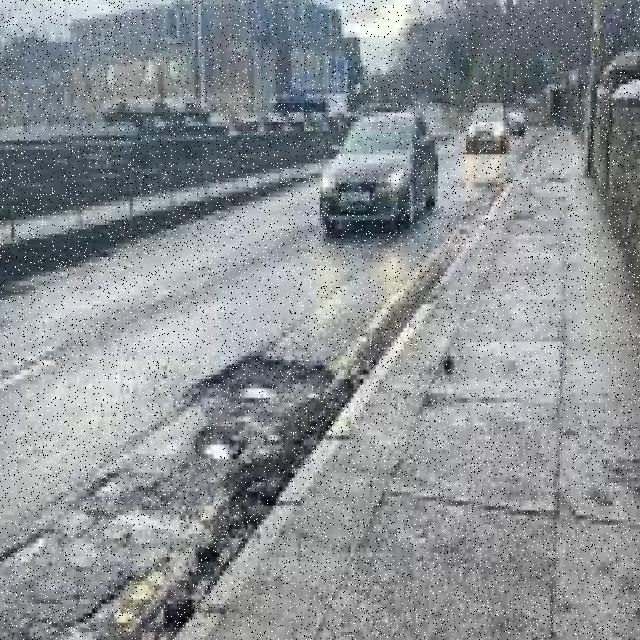pothole: (192, 356, 338, 482)
